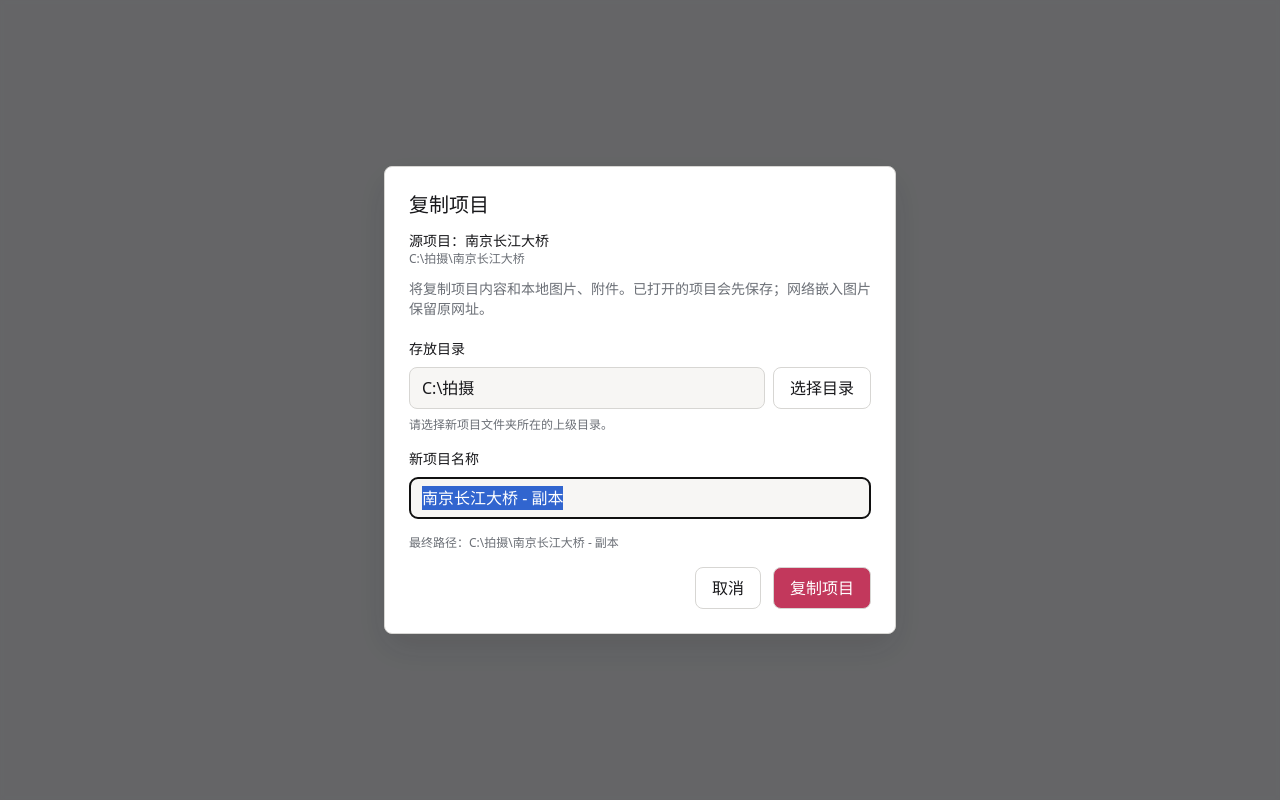
Test: copy project dialog › blocks duplicate submission and cancels the same operation
Click the button "复制项目" at (822, 588), box [773,567,871,609]
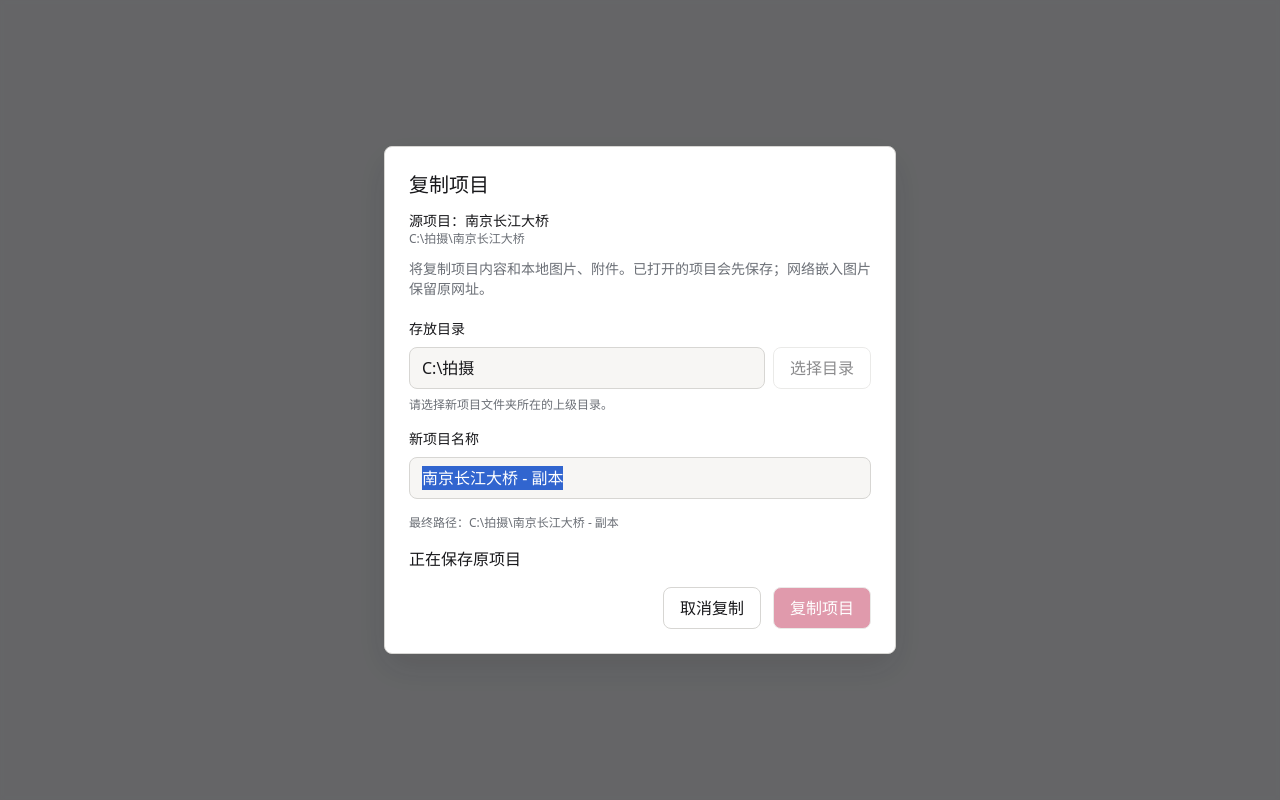
Now the field labelled "新项目名称" is disabled, box [409,457,871,499]
Click the button "取消复制" at (712, 608), box [663,587,761,629]
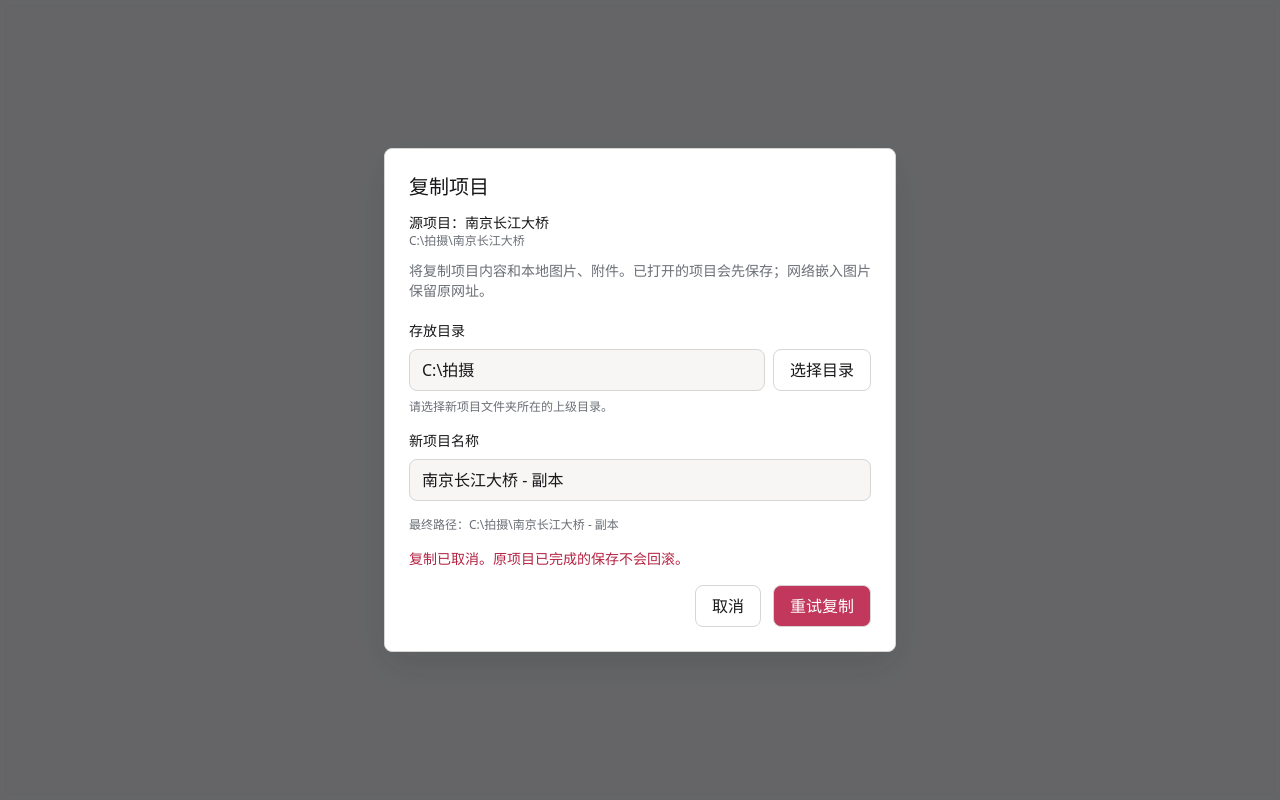
Now the text "复制已取消。原项目已完成的保存不会回滚。" is shown, box [409,549,689,568]
